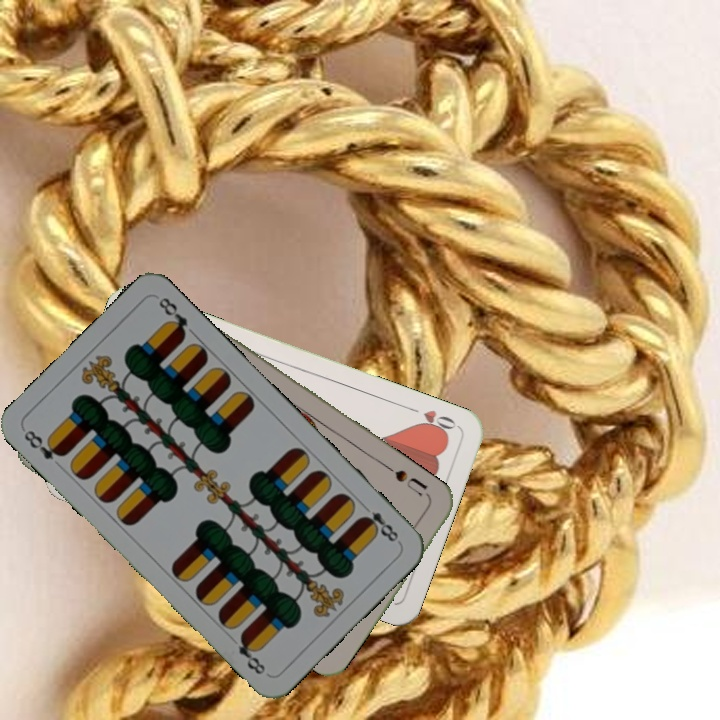E8: (356, 499, 403, 546), (19, 426, 68, 463)
HO: (403, 402, 460, 438)
SU: (390, 466, 431, 499)
